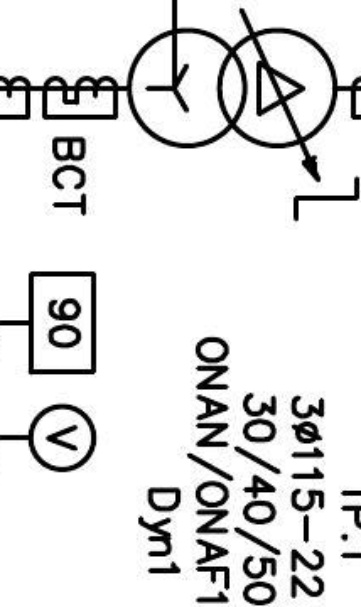11522_tx_dyn1: (125, 27, 339, 150)
v_m: (27, 401, 98, 474)
